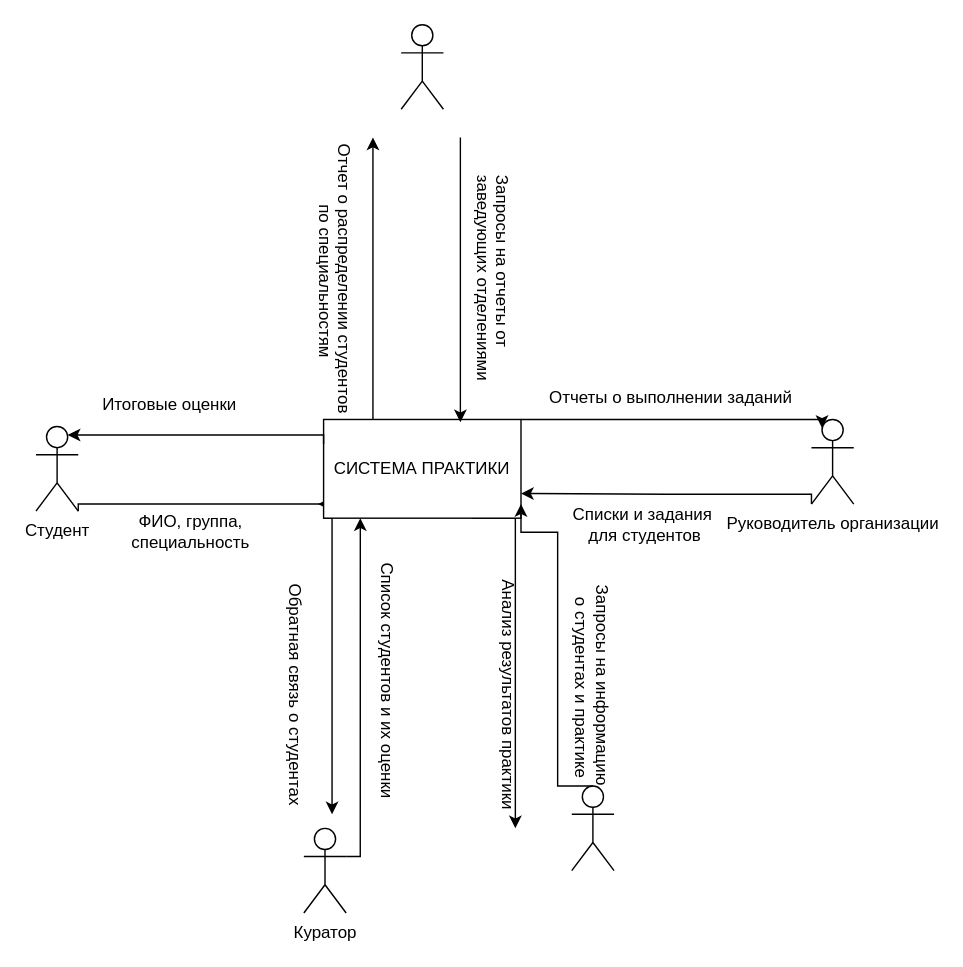
The diagram is 963 pixels wide and 967 high, and some of its shapes have lost their labels. Each missing label, with the centre of its shape:
"Заведующий отделением" goes at pixel 592 828.
"Начальник отделом практики" goes at pixel 421 66.
